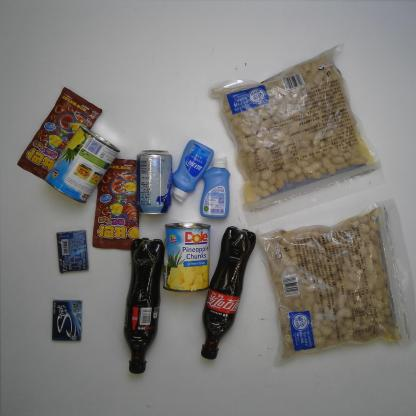Alcohol: (135, 149, 174, 215)
Candy: (16, 86, 104, 181), (92, 157, 140, 251)
Canned Food: (43, 126, 121, 204), (162, 221, 212, 293)
Dried Food: (208, 42, 387, 228), (255, 198, 415, 369)
Drink: (200, 226, 257, 361), (122, 236, 165, 374)
Gum: (56, 229, 90, 274), (51, 298, 83, 342)
Personal Hygiene: (171, 139, 215, 203), (199, 155, 232, 219)
